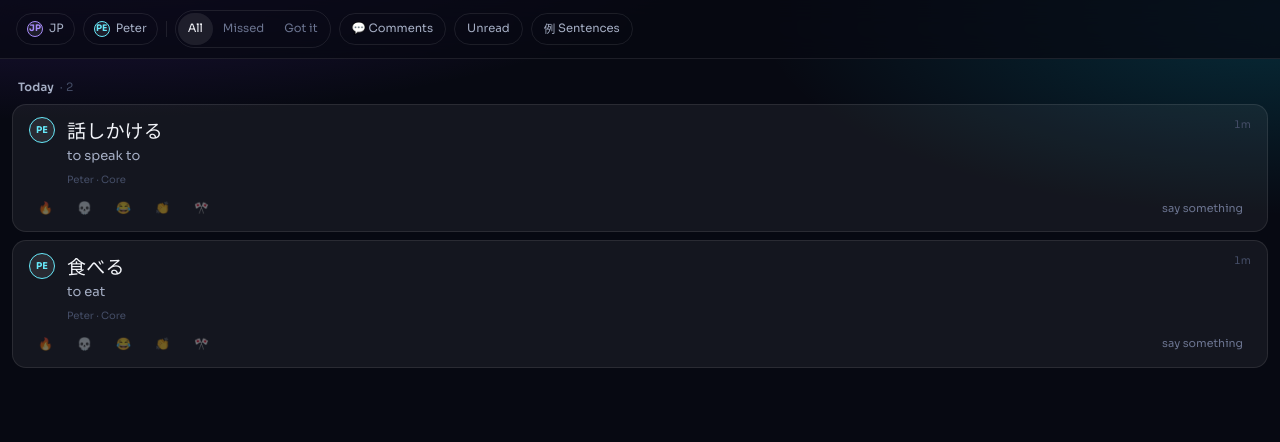
Test: drafts › stay with the card you wrote them on
Step 1. Click the button with test id "thread-peter:1" → {"x": 1202, "y": 208}, box x1=1154 y1=197 x2=1251 y2=219
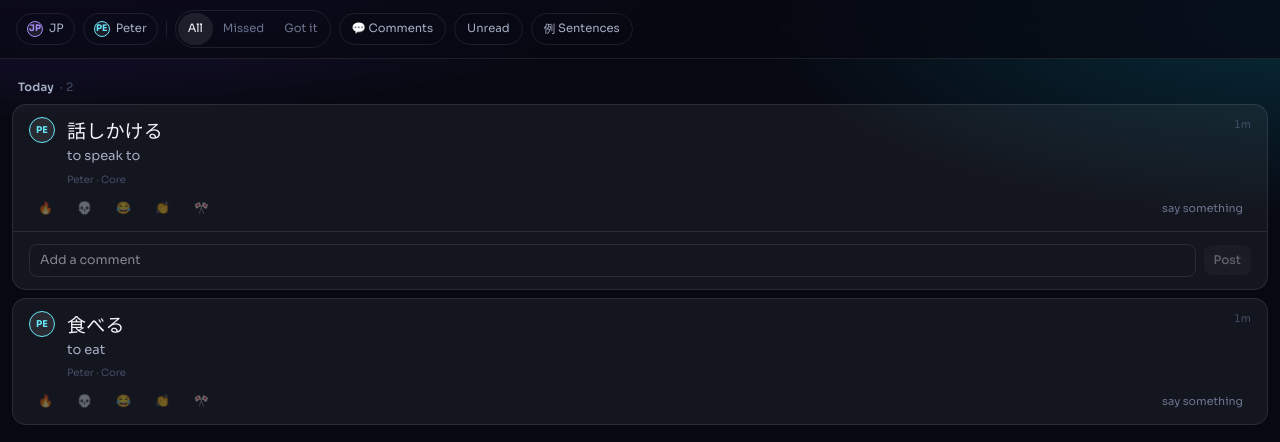
Step 2. Type "half a thought" into the field with test id "comment-input-peter:1" → {"x": 612, "y": 260}, box x1=29 y1=244 x2=1196 y2=277
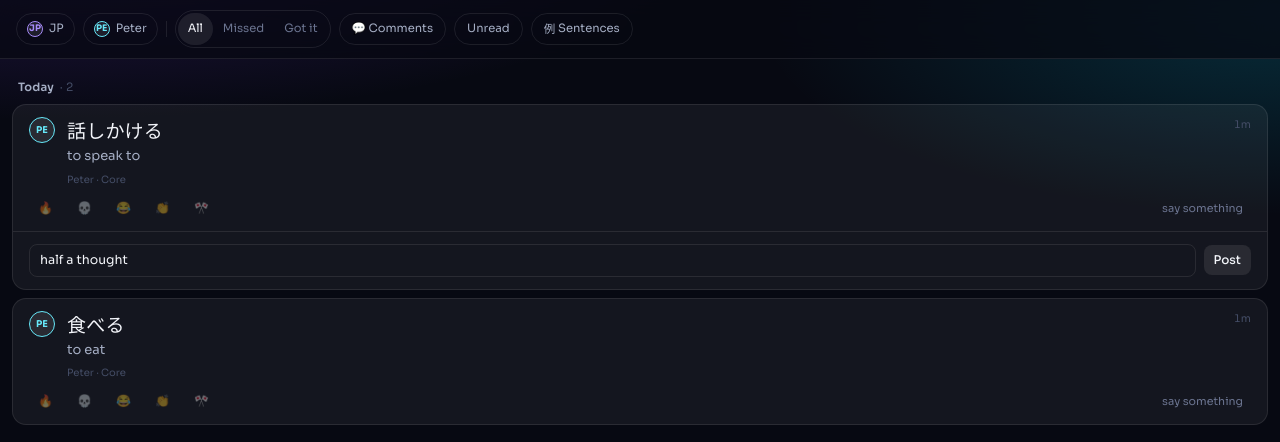
Step 3. Click the button with test id "thread-peter:2" → {"x": 1202, "y": 401}, box x1=1154 y1=390 x2=1251 y2=412
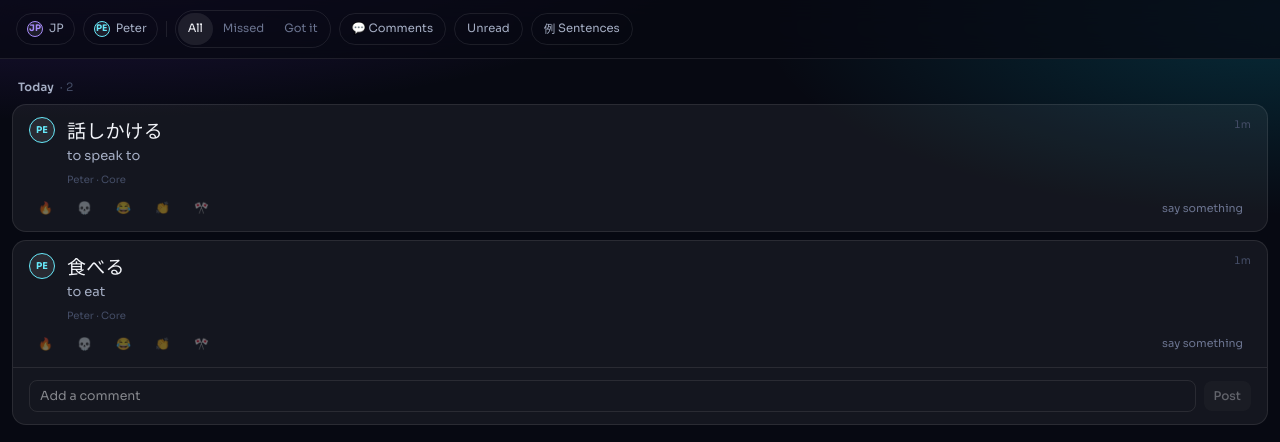
Expected: the field with test id "comment-input-peter:2" is empty
Step 4. Press Enter in the field with test id "comment-input-peter:2", box x1=29 y1=380 x2=1196 y2=412
Step 5. Click the button with test id "thread-peter:1" → {"x": 1202, "y": 208}, box x1=1154 y1=197 x2=1251 y2=219
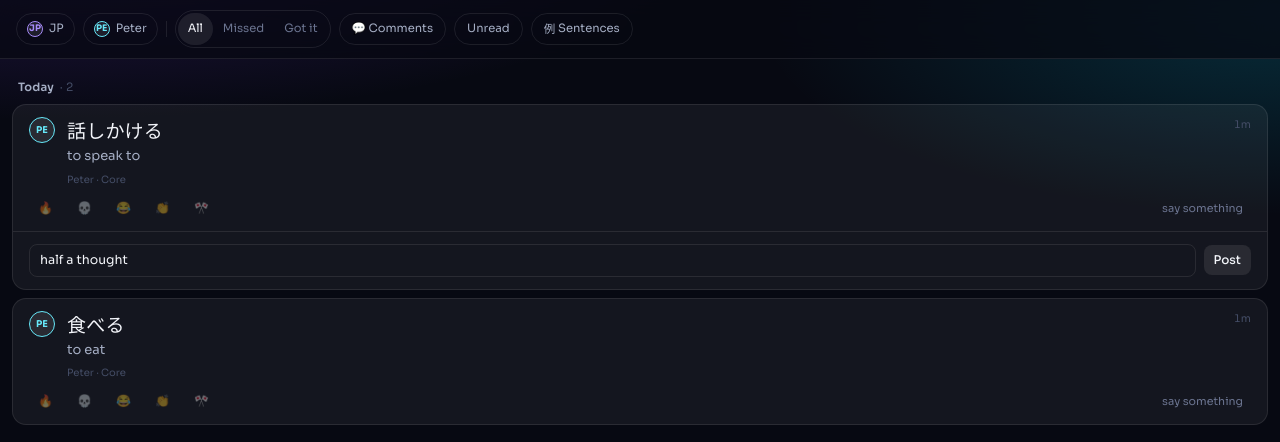
Expected: the field with test id "comment-input-peter:1" holds "half a thought", x1=29 y1=244 x2=1196 y2=277
